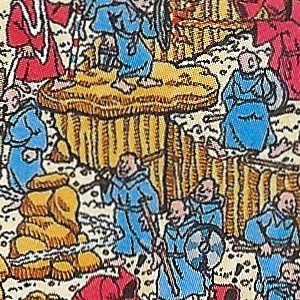Charlie: (179, 111, 211, 189)
